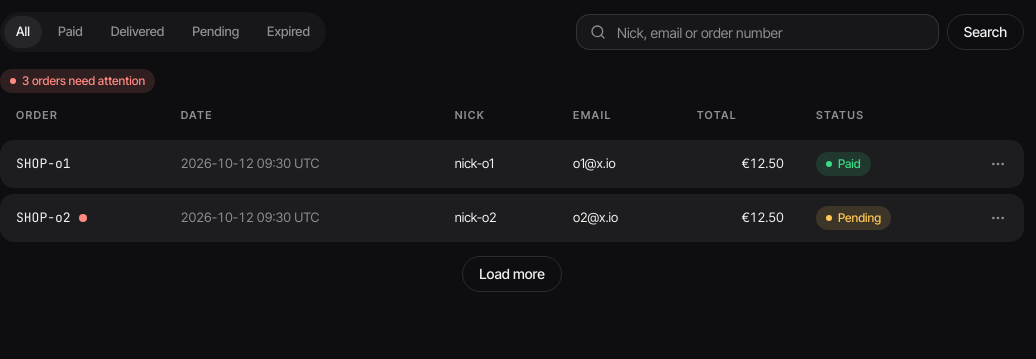
OrdersTable › loads more with the cursor
Click the button "Load more": point(512, 274) [462, 256, 562, 292]
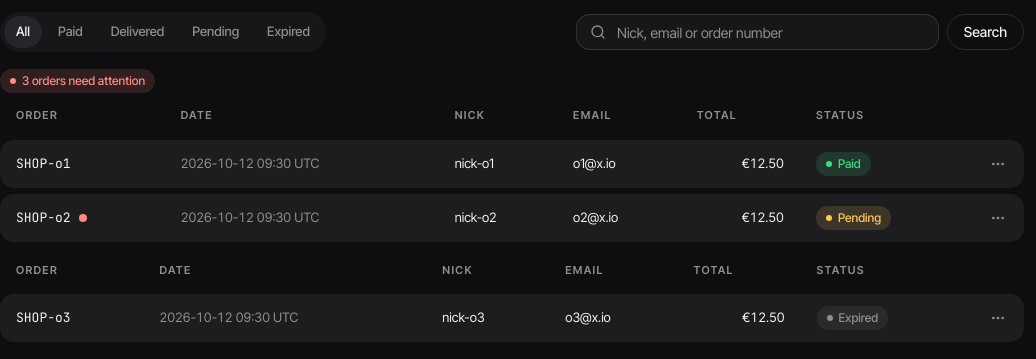
Expected: the text "SHOP-o1" is shown, [16, 154, 71, 173]
Expected: the text "SHOP-o3" is shown, [16, 308, 71, 328]
